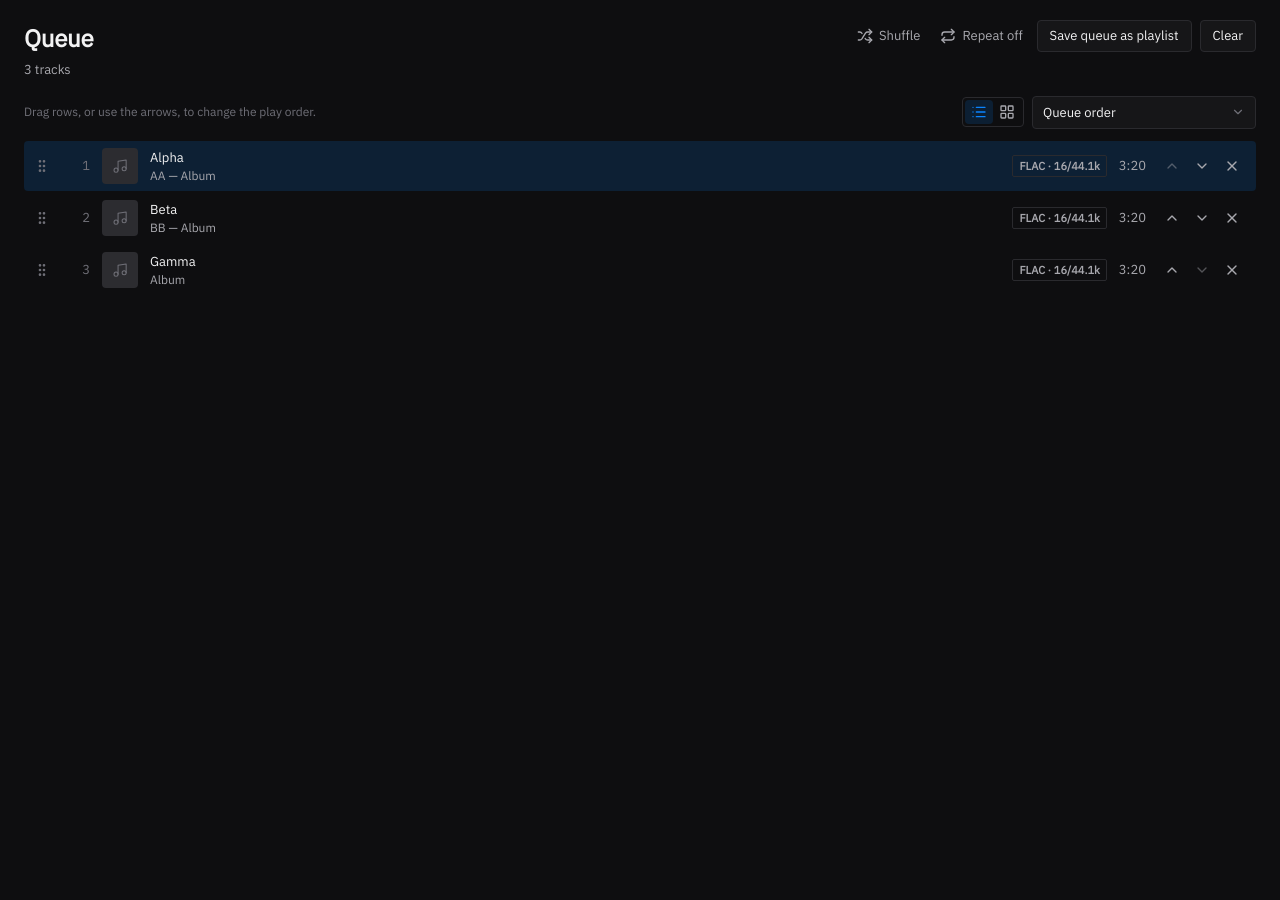
Test: QueueView › save as playlist (dialog instead of window.prompt) › shows the failure and lets the user retry
Click the button "Save queue as playlist" at (1114, 36), box x1=1037 y1=20 x2=1192 y2=52
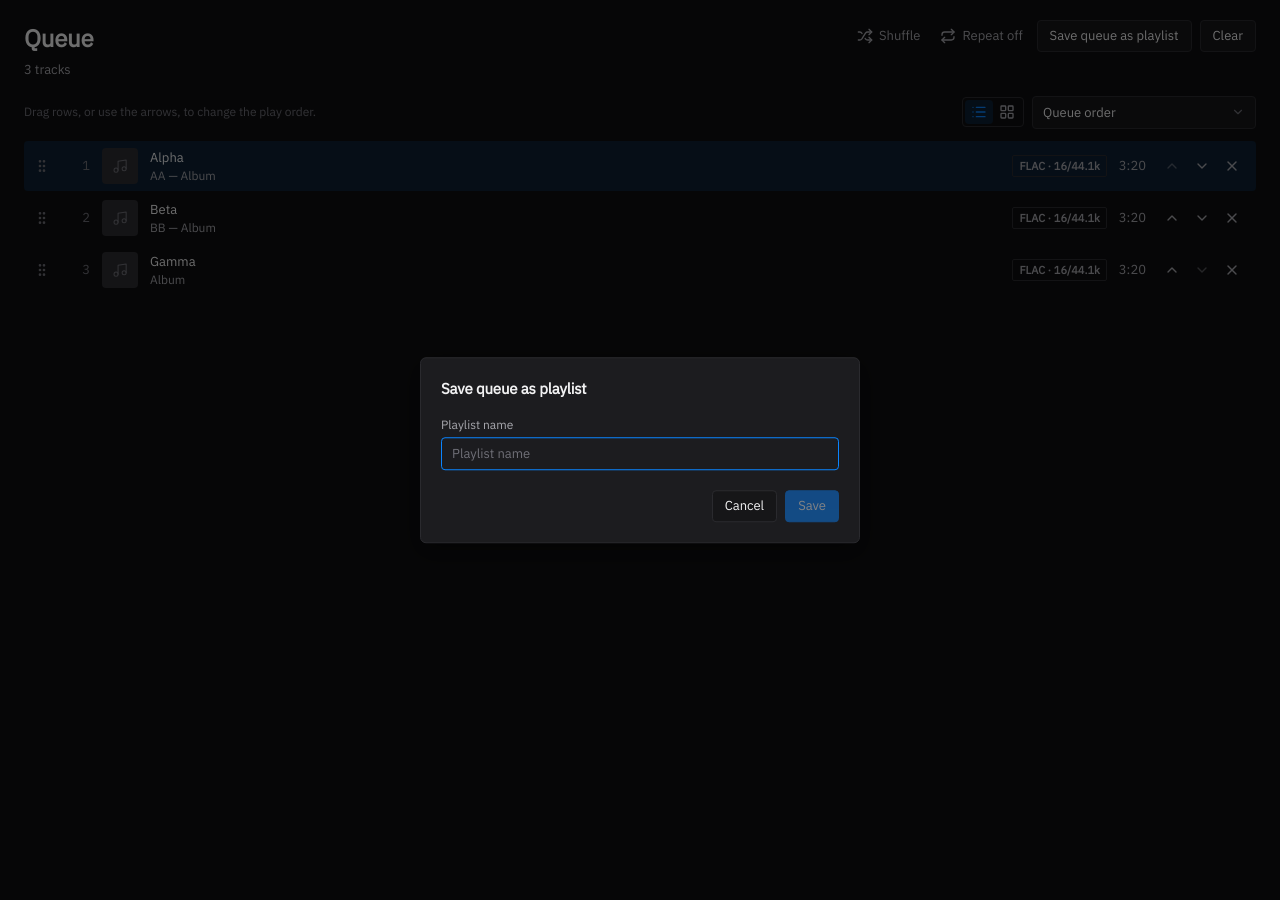
Type "X" into the field with placeholder "Playlist name" at (640, 454), box x1=441 y1=437 x2=839 y2=470
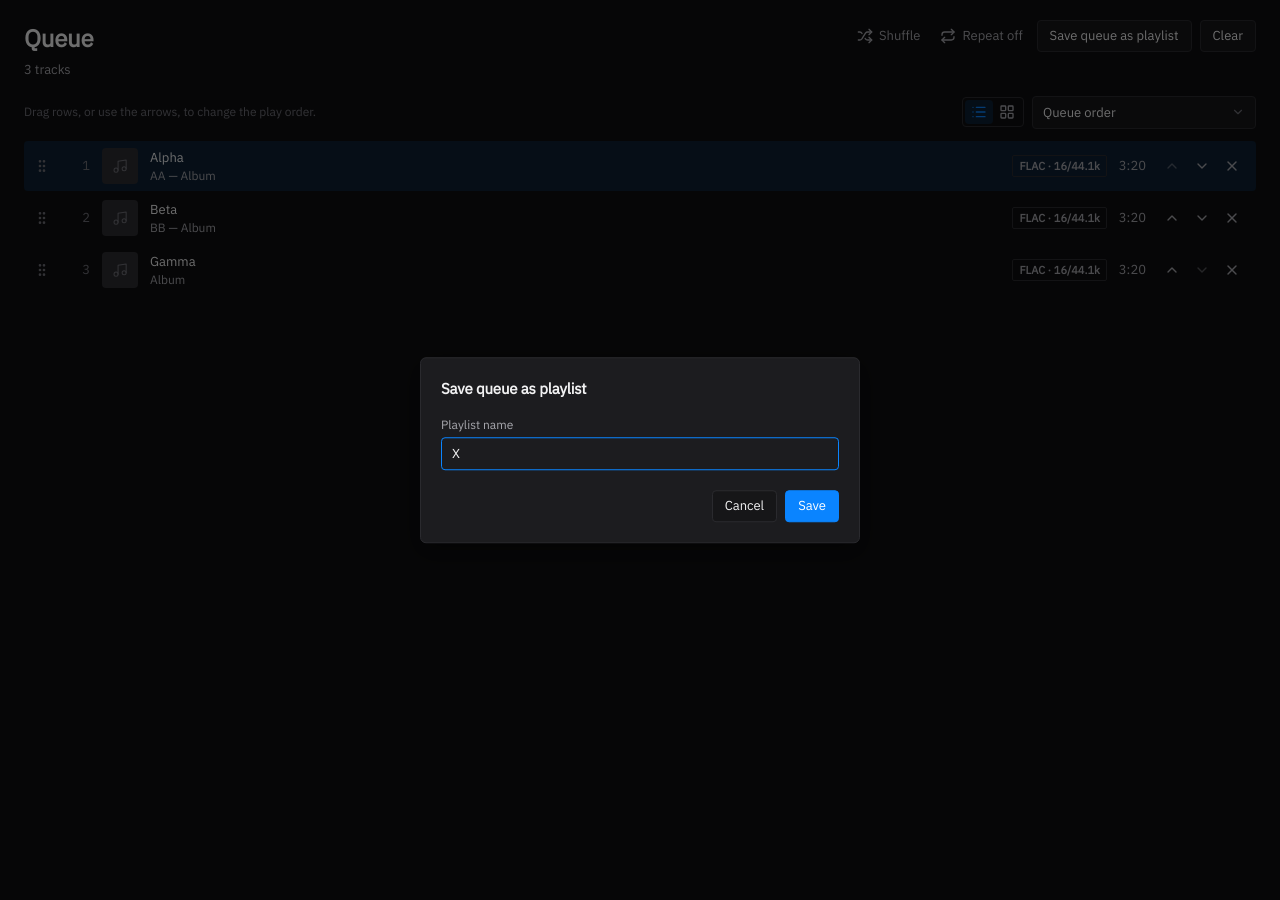
Click the button "Save" at (812, 506), box x1=785 y1=490 x2=839 y2=522
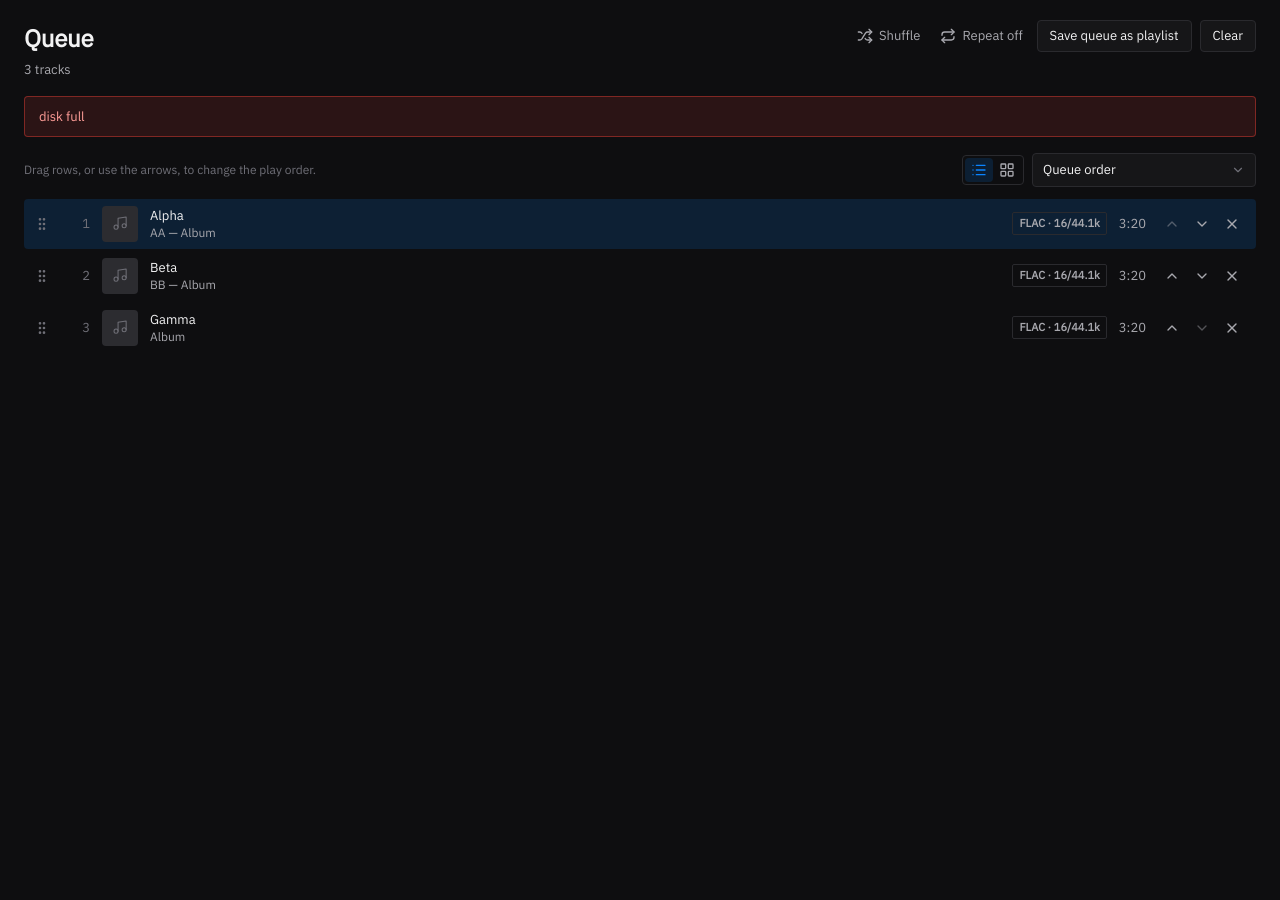
Expected: the button "Save queue as playlist" is enabled, x1=1037 y1=20 x2=1192 y2=52
Expected: the message "disk full" is shown, x1=24 y1=96 x2=1256 y2=137
